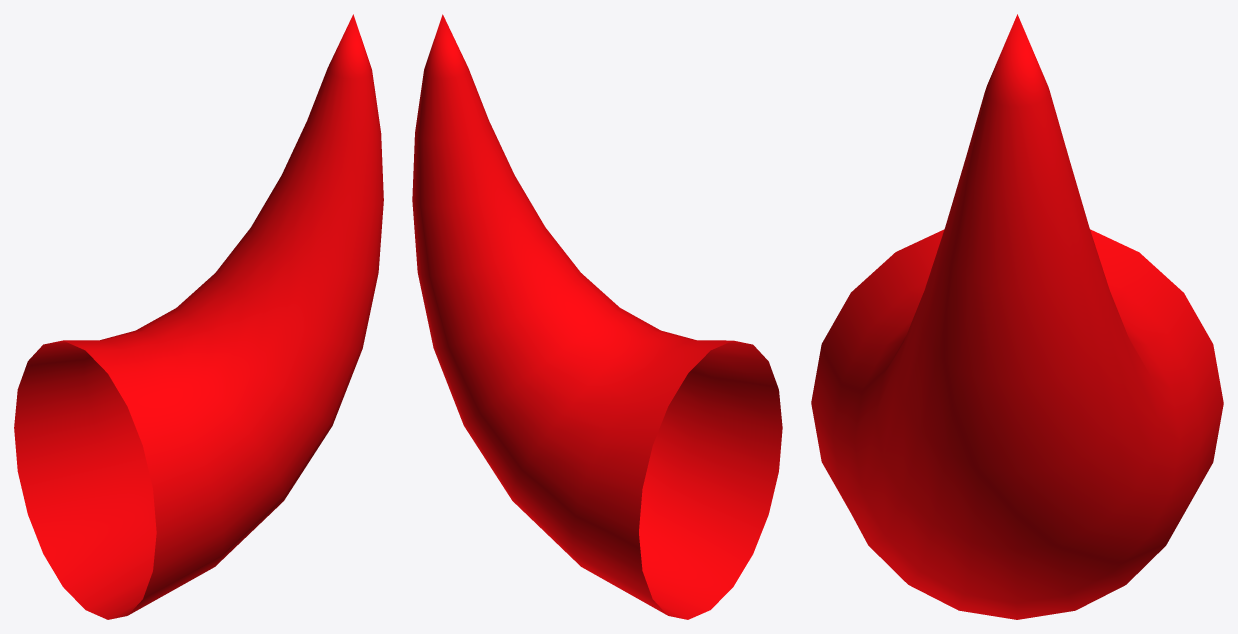
Rendered from HAT_RightRedHorn.fbx.
3 views of the same model, side by side, from view 1: azimuth 30°, elevation 25°; view 2: azimuth 150°, elevation 25°; view 3: azimuth 270°, elevation 25° (orthographic). The views are drawn at different scales.
Parts seen in each view (by area): view 1: Demon_horn; view 2: Demon_horn; view 3: Demon_horn.
Part boxes in pixels (x1,y1,x2,y2): Demon_horn: (14, 14, 383, 619); Demon_horn: (412, 14, 782, 619); Demon_horn: (811, 14, 1223, 619).
Bounding box in the file's own units: 31.42 × 54.62 × 26.72.
